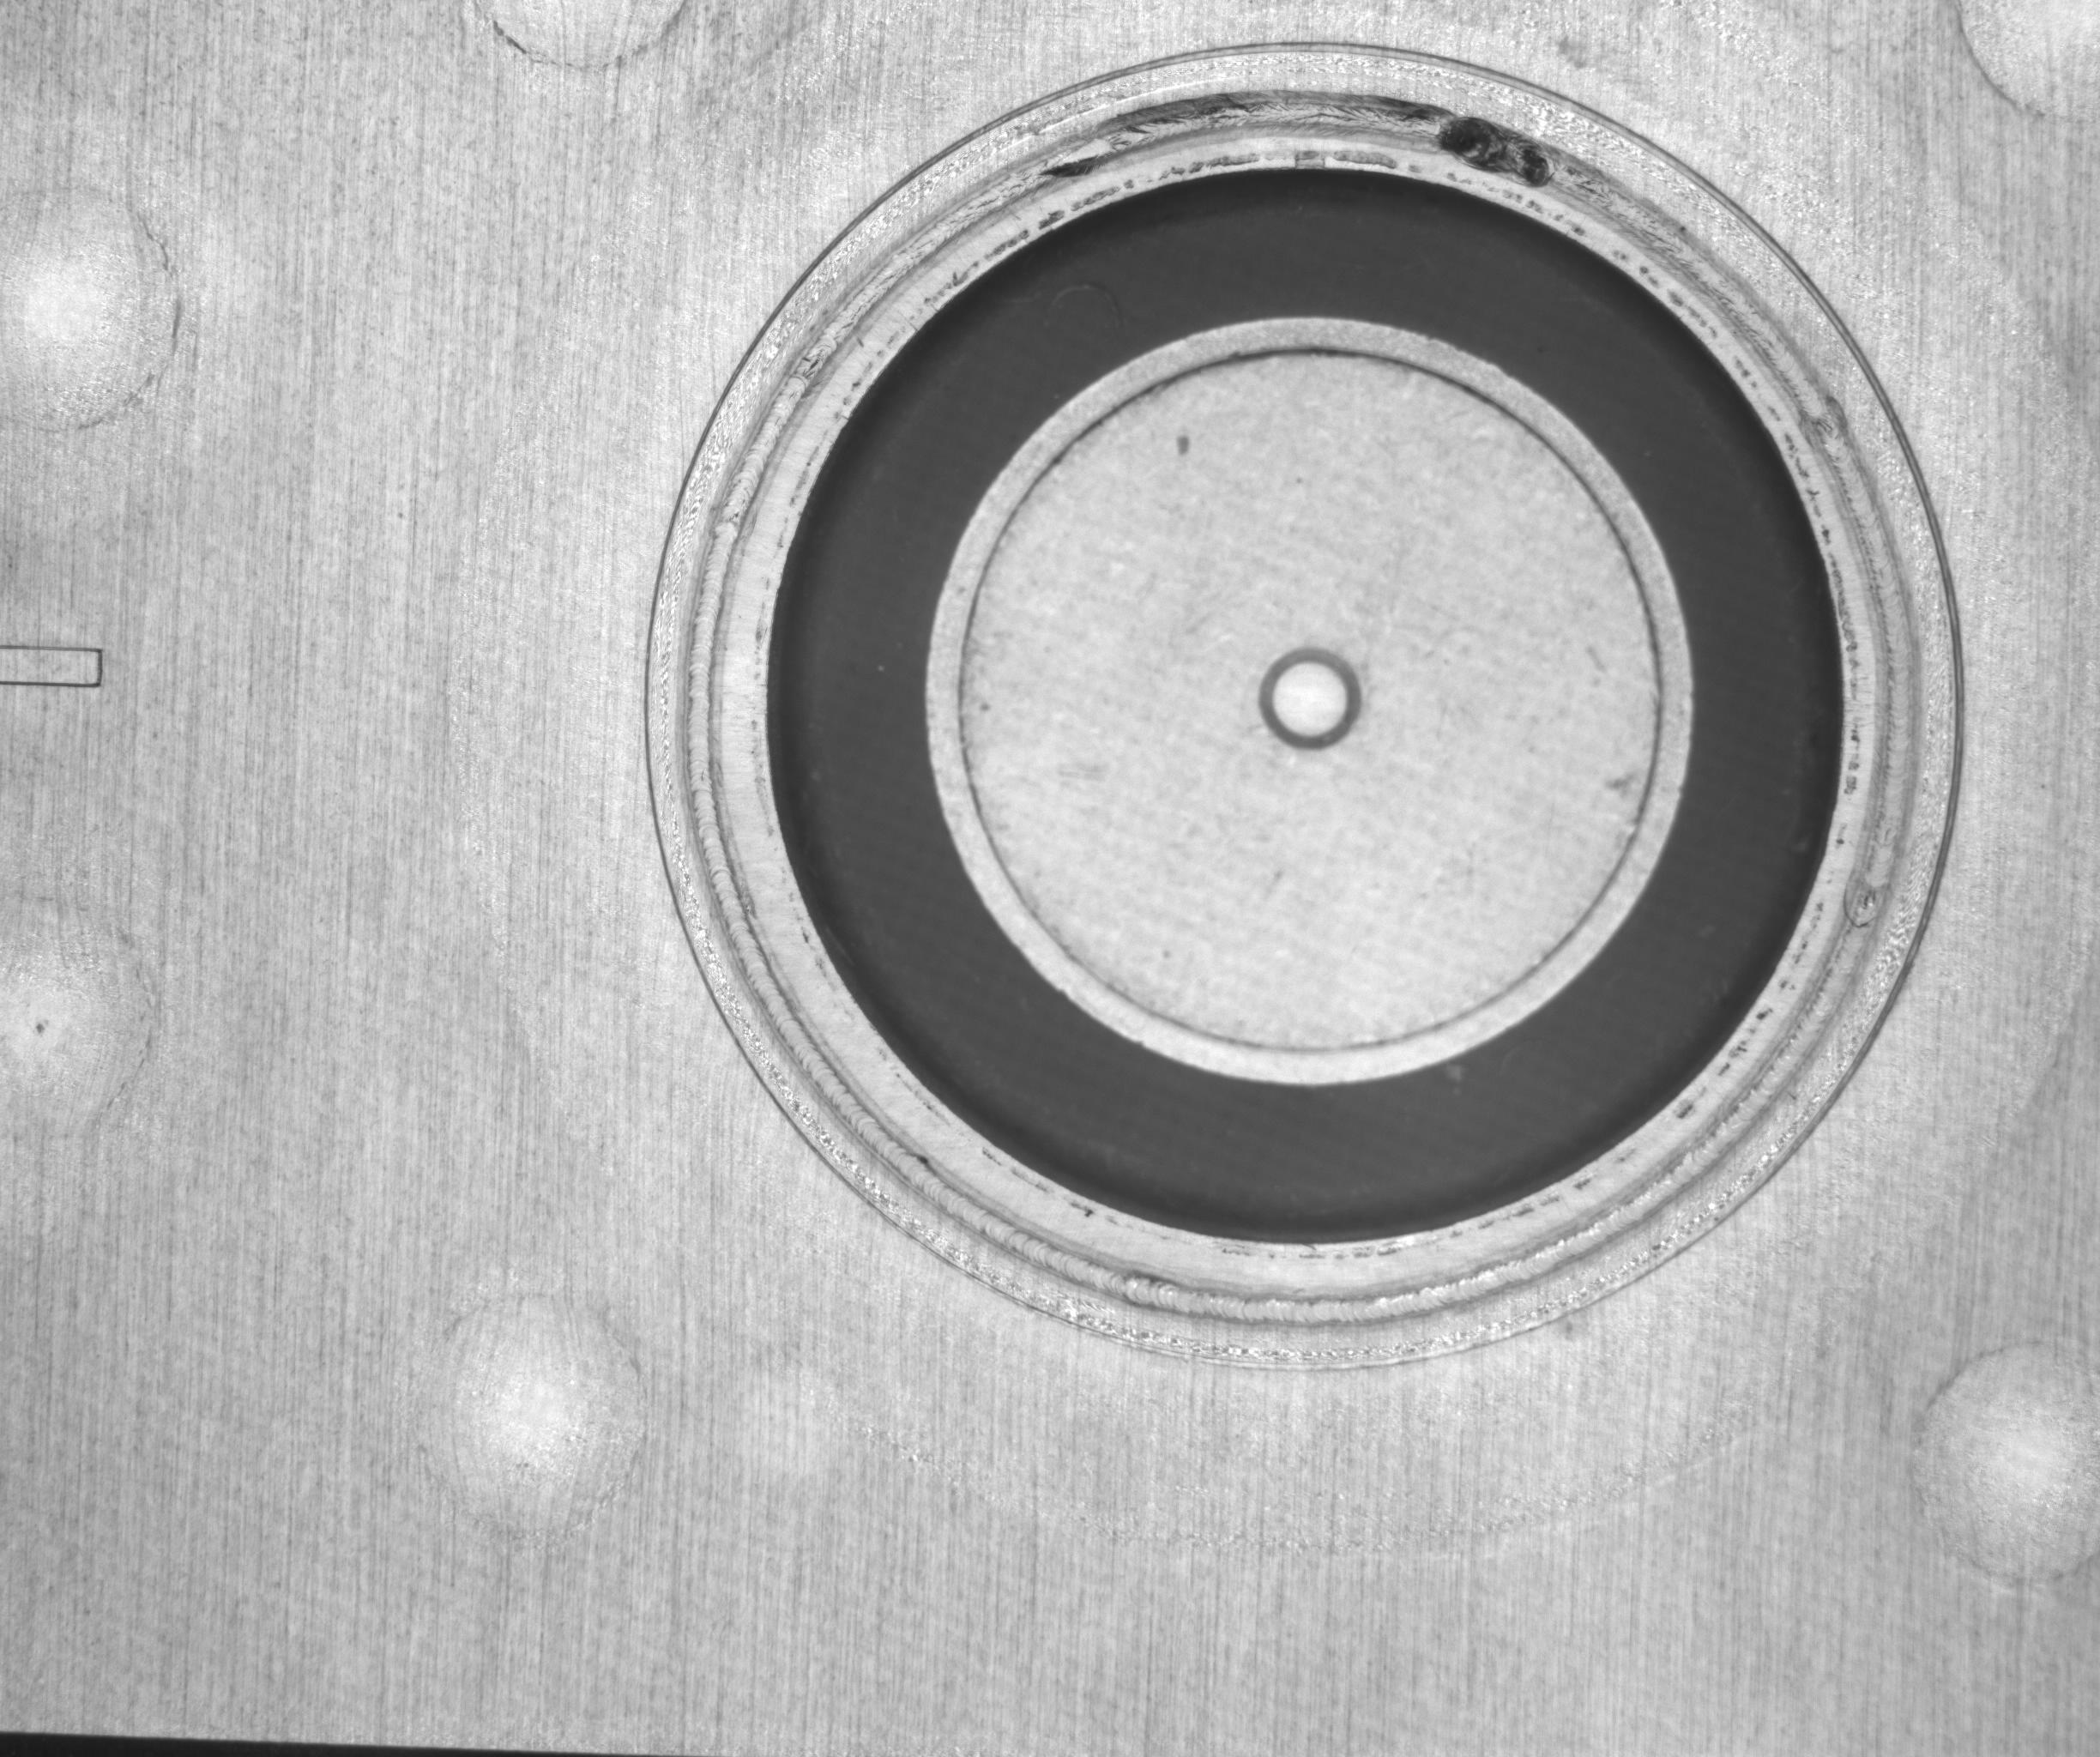continuousholes: (1394, 66, 1594, 246)
